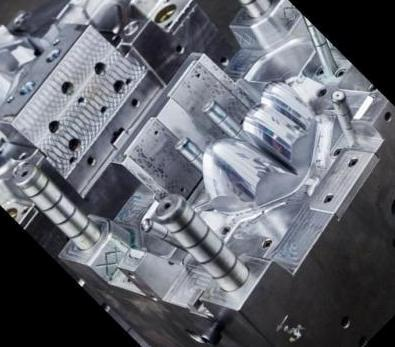hole: (382, 188, 395, 225)
